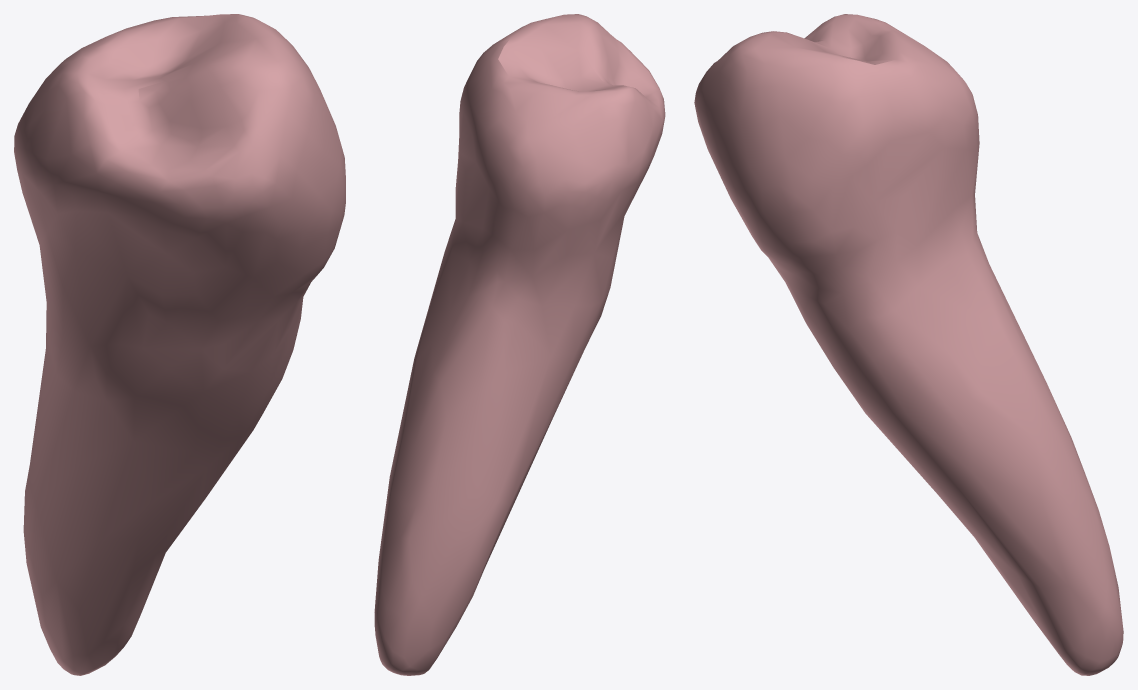
File: fma55692_mm819.glb
3 views of the same model, side by side, from view 1: azimuth 30°, elevation 25°; view 2: azimuth 150°, elevation 25°; view 3: azimuth 270°, elevation 25° (orthographic). The views are drawn at different scales.
Visible parts, largest first — view 1: FMA55692_MM819; view 2: FMA55692_MM819; view 3: FMA55692_MM819.
Part boxes in pixels (x1,y1,x2,y2): FMA55692_MM819: (14, 14, 345, 675); FMA55692_MM819: (374, 14, 665, 675); FMA55692_MM819: (694, 14, 1123, 675).
Bounding box in the file's own units: 0.00751 × 0.0206 × 0.0129.
